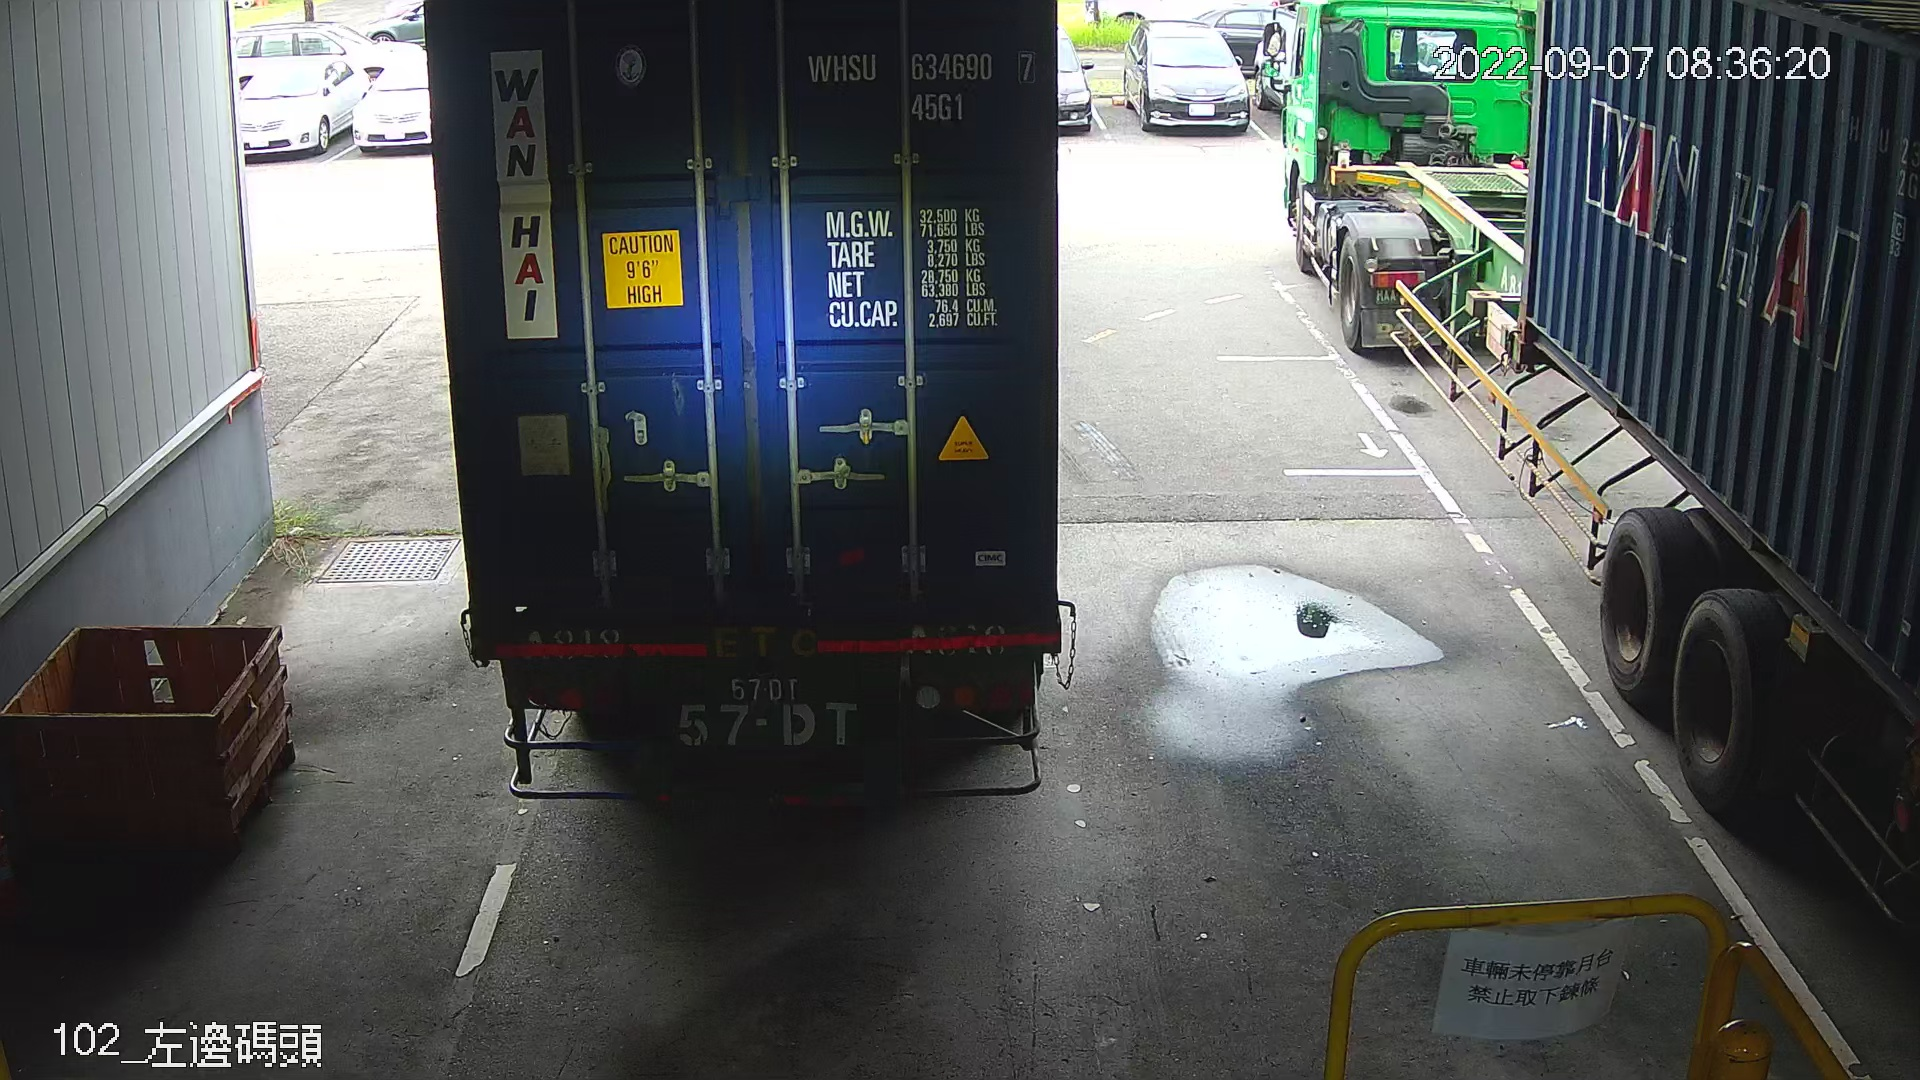container: (800, 41, 1040, 127)
